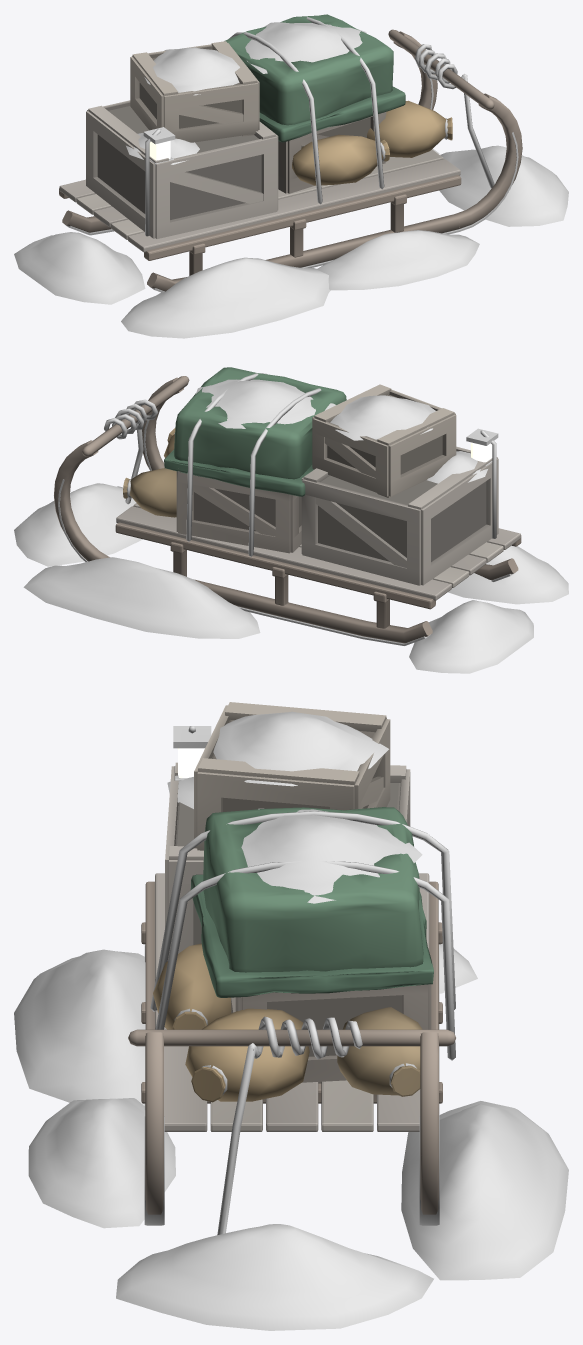
Rendered from sled.glb.
3 renders of one model, top to bottom at view 1: azimuth 30°, elevation 25°; view 2: azimuth 150°, elevation 25°; view 3: azimuth 270°, elevation 25°, orthographic. The views are drawn at different scales.
Visible parts, largest first — view 1: sled_wood, sled_snow, sled_canvas, sled_rope, sled_metal; view 2: sled_wood, sled_snow, sled_canvas, sled_rope, sled_metal; view 3: sled_snow, sled_wood, sled_canvas, sled_rope, sled_metal.
Boxes of the visible parts, <box> form: sled_wood: <box>59,29,522,291</box>; sled_snow: <box>14,22,568,338</box>; sled_canvas: <box>224,14,452,185</box>; sled_rope: <box>229,17,494,204</box>; sled_metal: <box>64,78,518,293</box>; sled_wood: <box>54,376,521,643</box>; sled_snow: <box>14,379,568,673</box>; sled_canvas: <box>123,367,346,517</box>; sled_rope: <box>104,373,321,556</box>; sled_metal: <box>58,420,515,645</box>; sled_snow: <box>14,711,568,1330</box>; sled_wood: <box>128,702,455,1214</box>; sled_canvas: <box>153,807,433,1102</box>; sled_rope: <box>150,811,455,1235</box>; sled_metal: <box>144,726,439,1225</box>.
Bounding box in the file's own units: 4.22 × 1.66 × 2.5.
